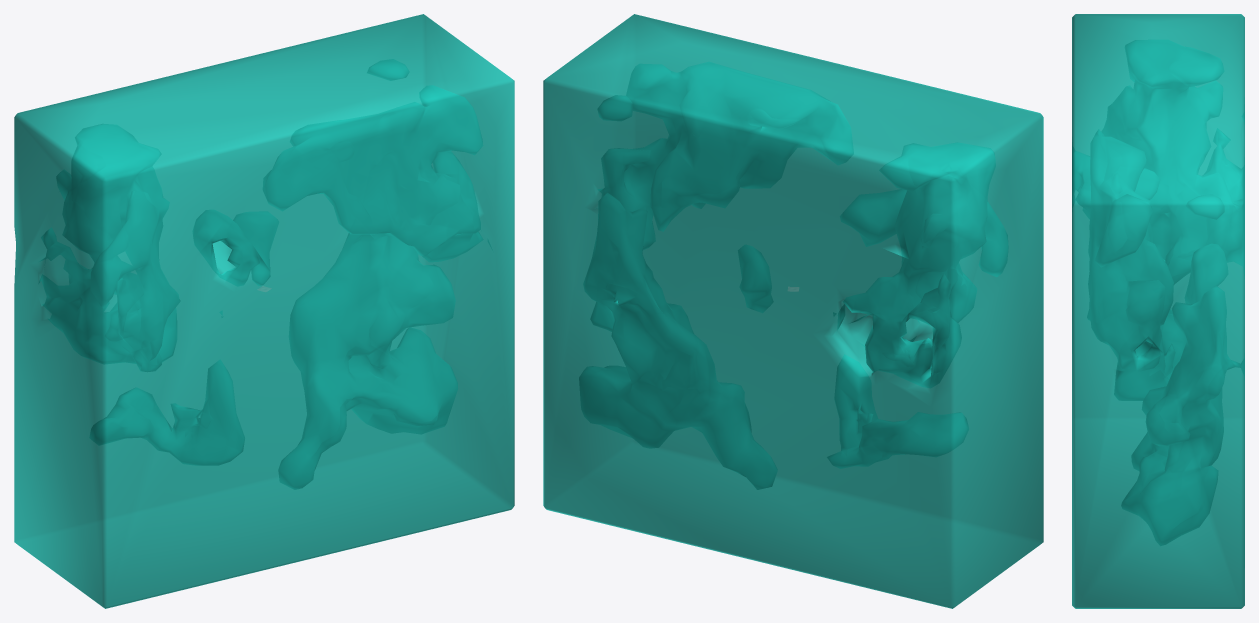
The picture shows the model from 3 angles, left to right: view 1: azimuth 30°, elevation 25°; view 2: azimuth 150°, elevation 25°; view 3: azimuth 270°, elevation 25°; orthographic projection. The views are drawn at different scales.
Parts seen in each view (by area): view 1: Liquid_Domain; view 2: Liquid_Domain; view 3: Liquid_Domain.
Boxes of the visible parts, x1,y1,x2,y2 form: Liquid_Domain: [14, 14, 514, 608]; Liquid_Domain: [543, 14, 1043, 608]; Liquid_Domain: [1072, 14, 1244, 608].
Size of the model in its own units: 1948 by 1948 by 748.
